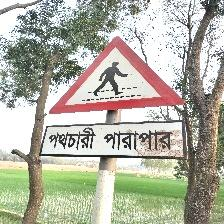Pedestrian-crossing: (43, 35, 189, 160)
